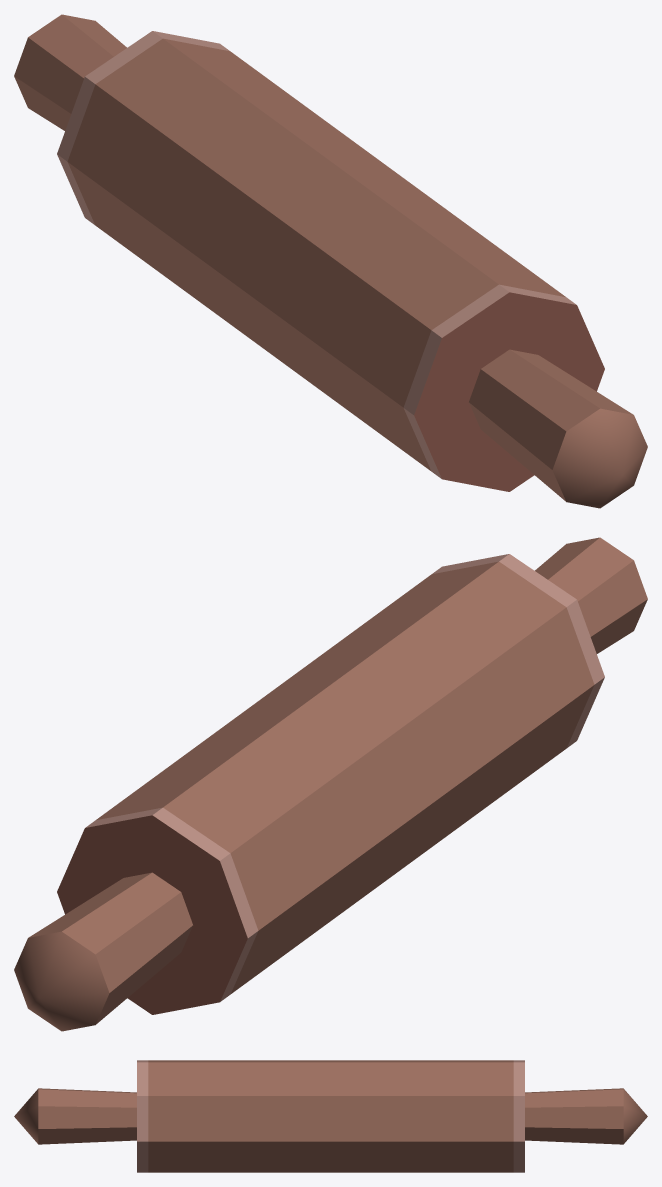
Rendered from rolling pin.fbx.
3 renders of one model, top to bottom at view 1: azimuth 30°, elevation 25°; view 2: azimuth 150°, elevation 25°; view 3: azimuth 270°, elevation 25°, orthographic. The views are drawn at different scales.
Visible parts, largest first — view 1: rolling_pin; view 2: rolling_pin; view 3: rolling_pin.
Boxes of the visible parts, x1=… form: rolling_pin: x1=14, y1=14, x2=647, y2=508; rolling_pin: x1=14, y1=537, x2=647, y2=1031; rolling_pin: x1=14, y1=1060, x2=647, y2=1172.
Bounding box in the file's own units: 0.4746 × 0.4746 × 2.51.
